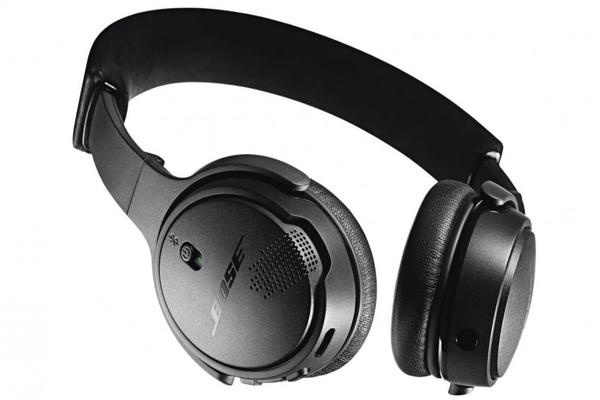headphone: (65, 13, 551, 400)
